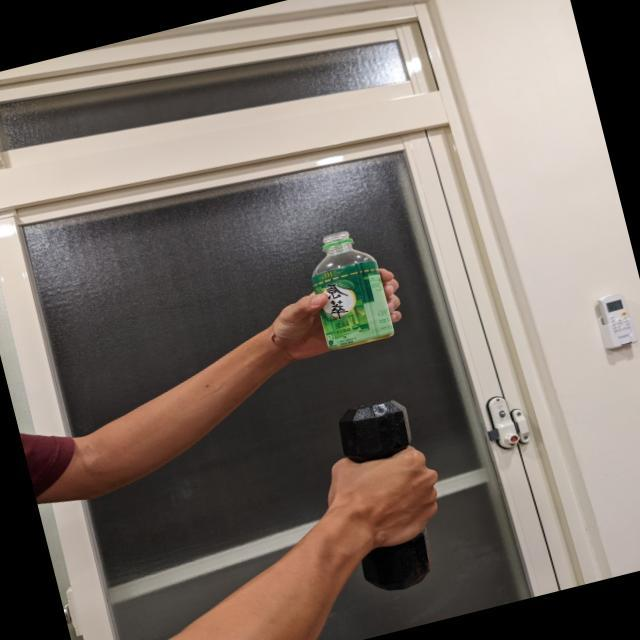good: (290, 218, 402, 352)
